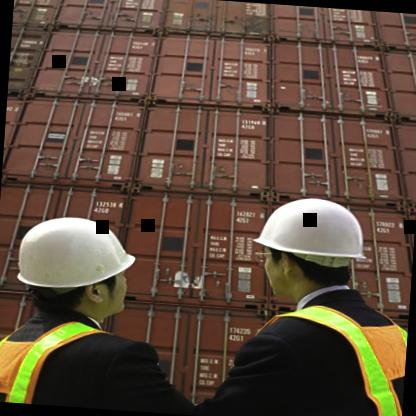helmet: (0, 205, 157, 337), (236, 186, 384, 310)
